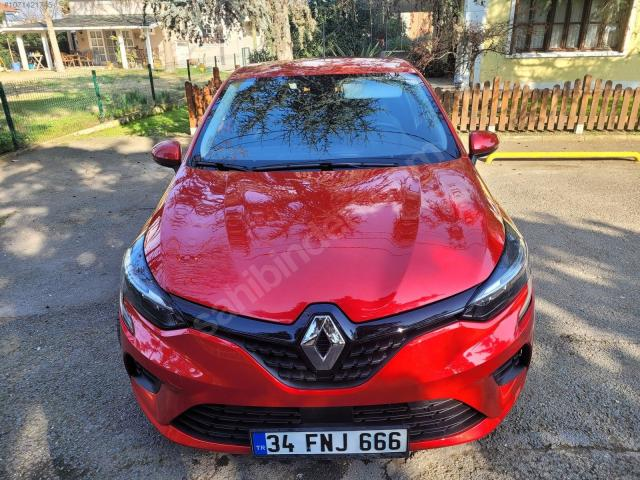plaka: (251, 428, 410, 455)
